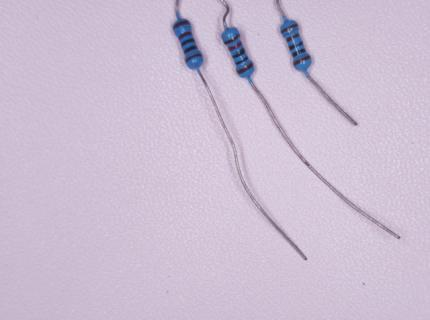Brown band: (285, 33, 300, 43), (178, 31, 192, 41)
